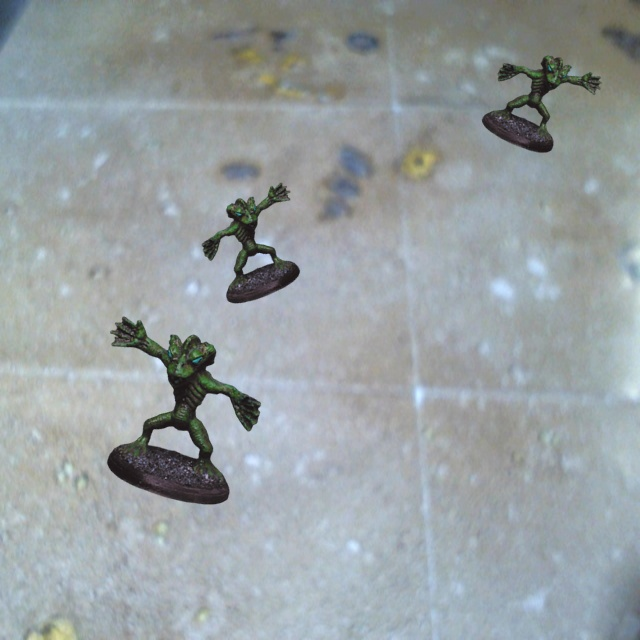pieza_juego: (107, 316, 260, 504), (202, 183, 299, 303), (482, 55, 601, 152)
